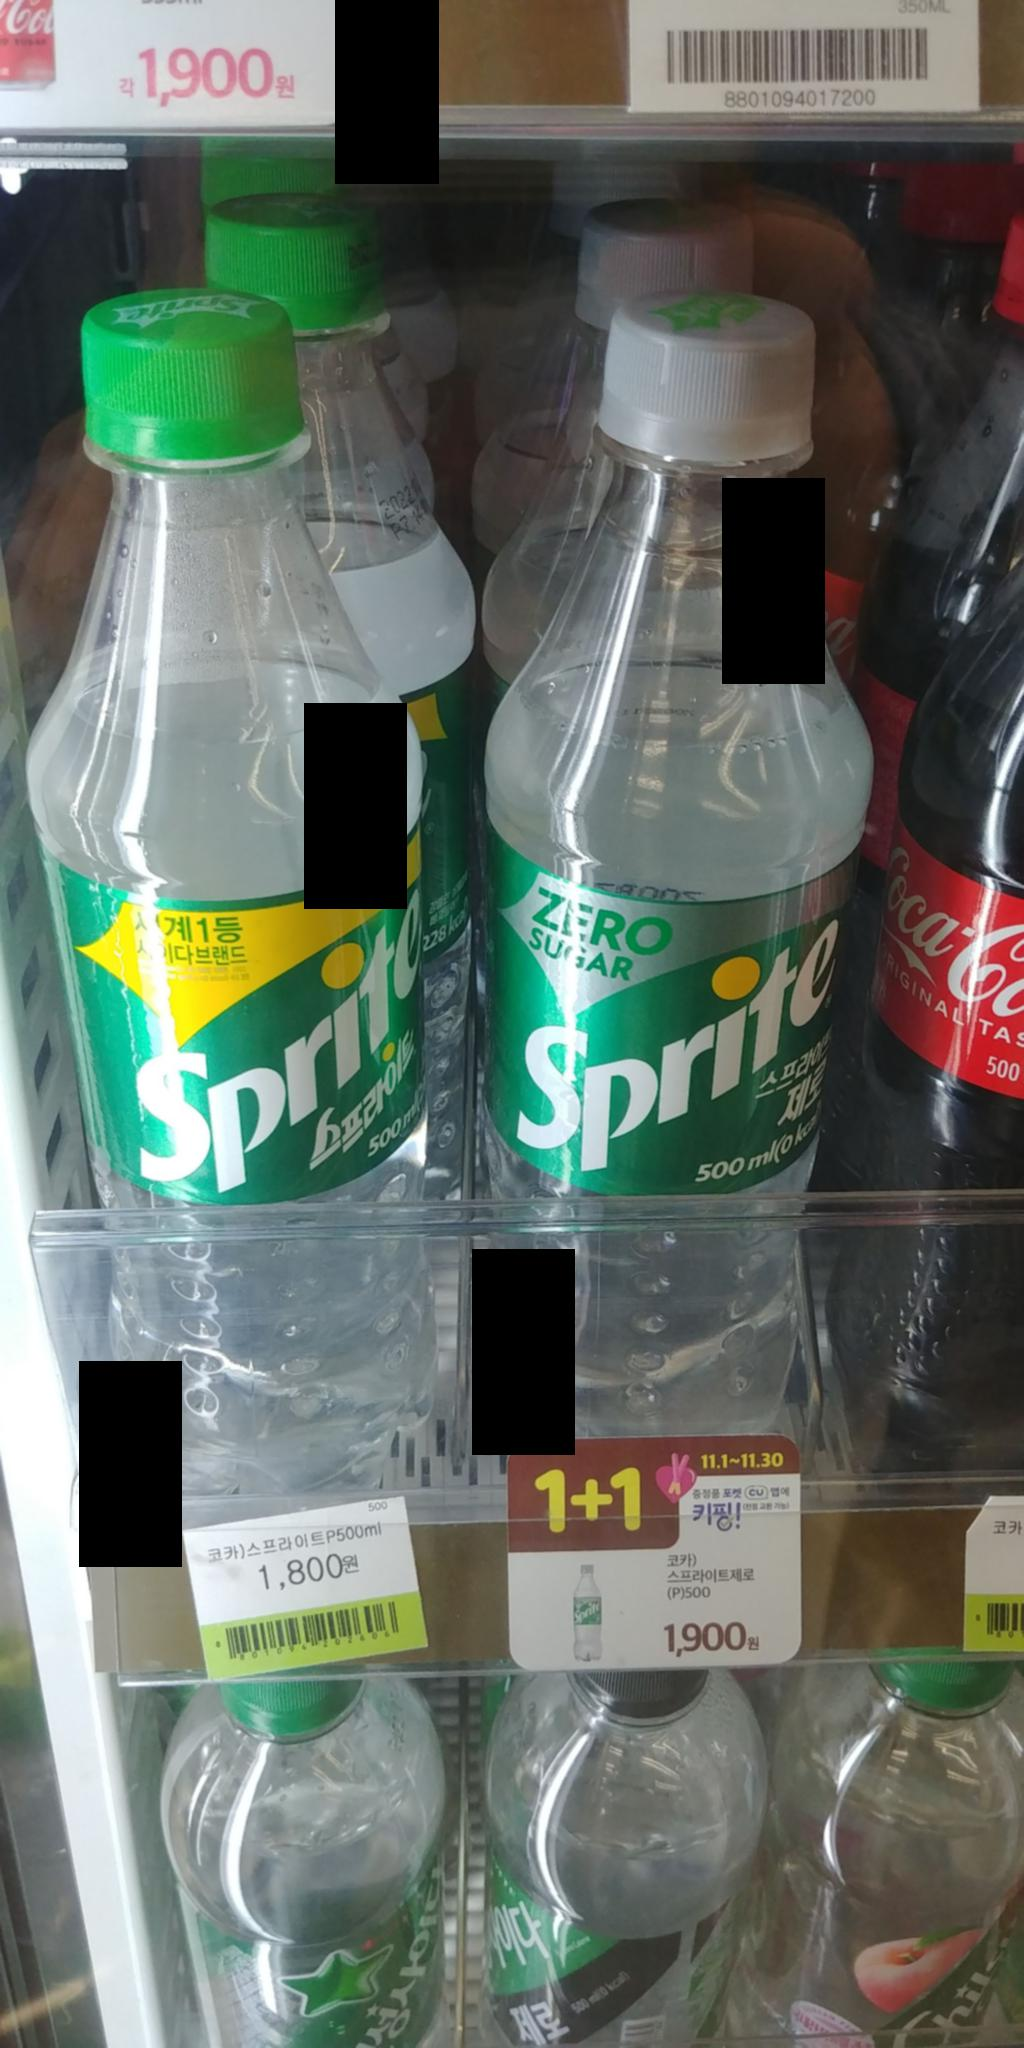sprite_zero: (465, 300, 845, 1455)
